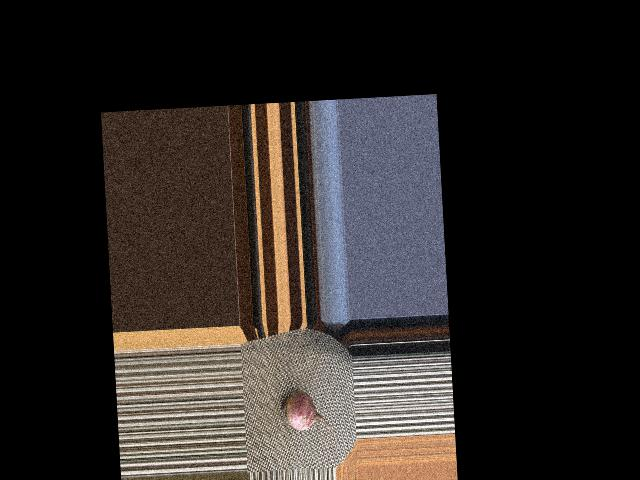beet: (279, 388, 338, 449)
